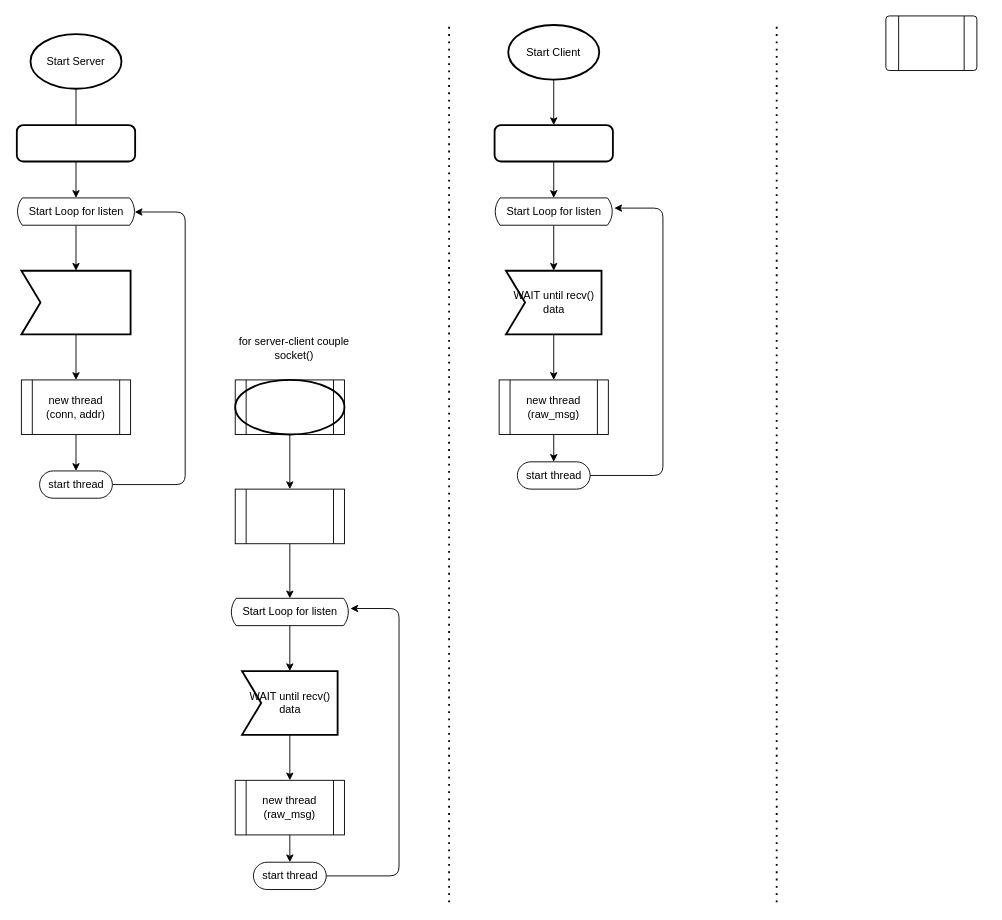
Some shapes in this 1002 by 920 pixel diagram are drawn without their labels. The centre of each missing label's shape, as x and y in pixels:
bind(server,port): point (75, 143)
connect(server,port): point (553, 143)
new thread for external if necessary: point (289, 516)
Raw_Data_Processing: point (931, 43)
Server-clientN socket Thread: point (289, 407)
WAIT until accept() client: point (75, 302)
